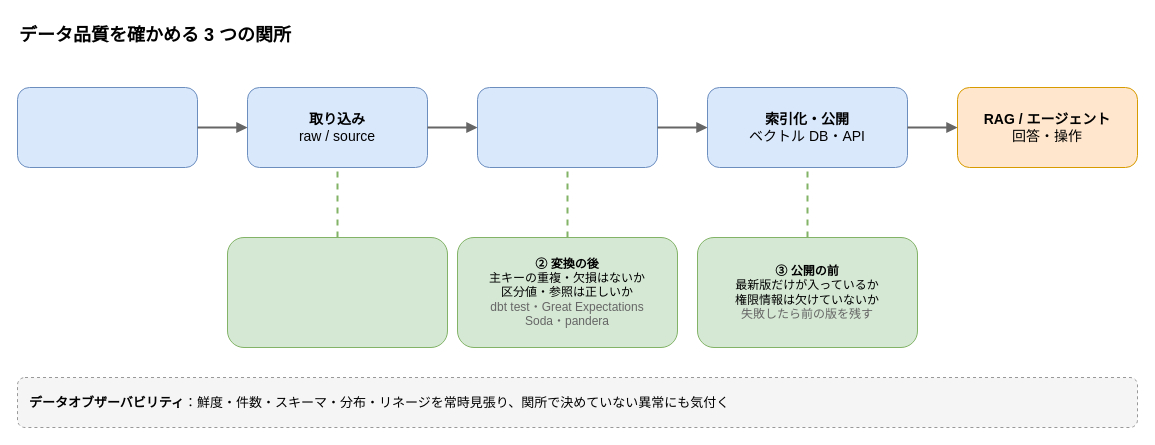
Some shapes in this 1155 by 445 pixel diagram are drawn without their labels. Each missing label, with the centre of its shape:
"① 取り込み直後 スキーマは契約どおりか 件数・鮮度は想定内か データコントラクト dbt source freshness" goes at [337,292].
"変換 staging → mart" goes at [567,127].
"業務システム 業務 DB・文書・SaaS" goes at [107,127].
